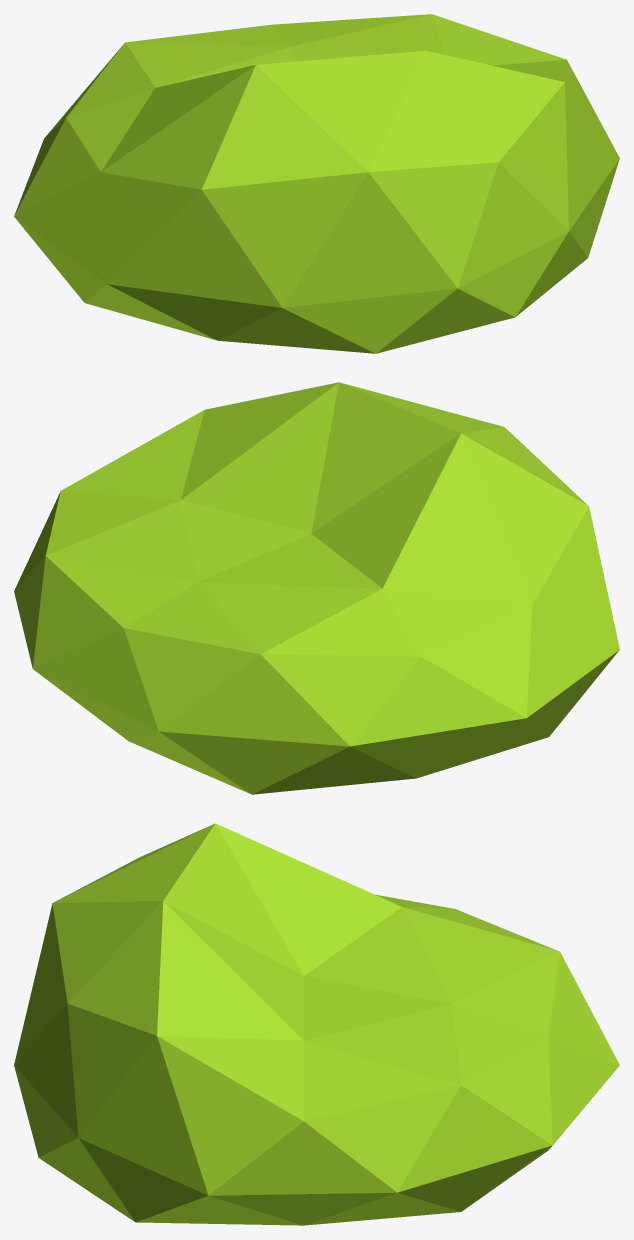
The picture shows the model from 3 angles, top to bottom: view 1: azimuth 30°, elevation 25°; view 2: azimuth 150°, elevation 25°; view 3: azimuth 270°, elevation 25°; orthographic projection. The views are drawn at different scales.
Parts seen in each view (by area): view 1: bag; view 2: bag; view 3: bag.
Boxes of the visible parts, box(x1,y1,x2,y2) form: bag: box(14, 14, 619, 353); bag: box(14, 382, 619, 794); bag: box(14, 823, 619, 1225).
Bounding box in the file's own units: 0.8345 × 0.3688 × 0.8125.
